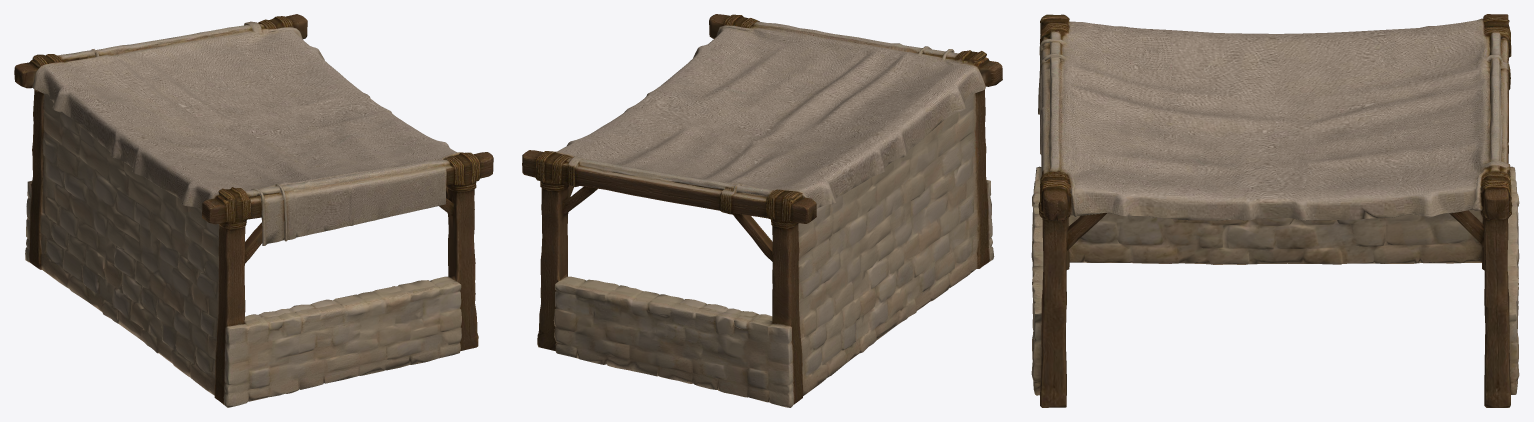
Rendered from market-stall-tripo-v2.glb.
3 views of the same model, side by side, from view 1: azimuth 30°, elevation 25°; view 2: azimuth 150°, elevation 25°; view 3: azimuth 270°, elevation 25° (orthographic). The views are drawn at different scales.
Visible parts, largest first — view 1: tripo_node_8ed803f8-48db-4786-8990-fdb545fc0a84; view 2: tripo_node_8ed803f8-48db-4786-8990-fdb545fc0a84; view 3: tripo_node_8ed803f8-48db-4786-8990-fdb545fc0a84.
Part boxes in pixels (box(x1,y1,x2,y2)): tripo_node_8ed803f8-48db-4786-8990-fdb545fc0a84: box(14, 14, 493, 407); tripo_node_8ed803f8-48db-4786-8990-fdb545fc0a84: box(522, 14, 1002, 407); tripo_node_8ed803f8-48db-4786-8990-fdb545fc0a84: box(1031, 14, 1519, 407).
Size of the model in its own units: 0.8055 by 0.5652 by 1.
Materials: 1 (1 with a texture image).
